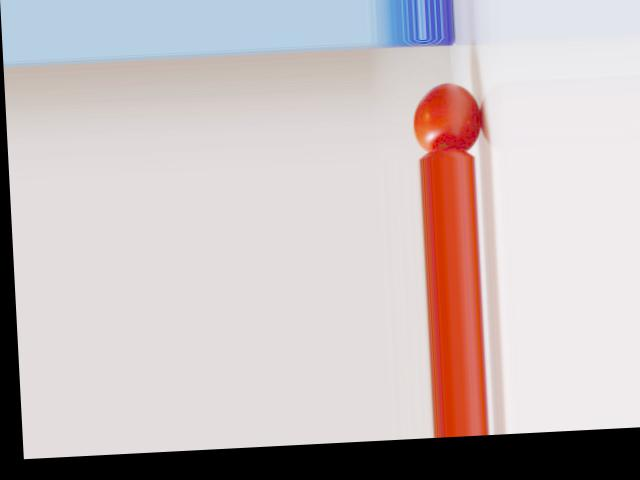tomato: (411, 81, 482, 152)
